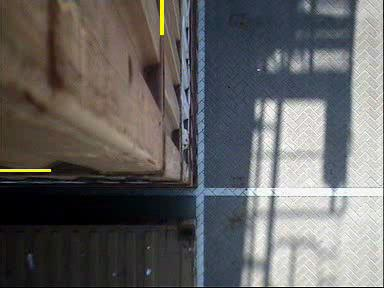groundmarker_2: (205, 103, 244, 174)
